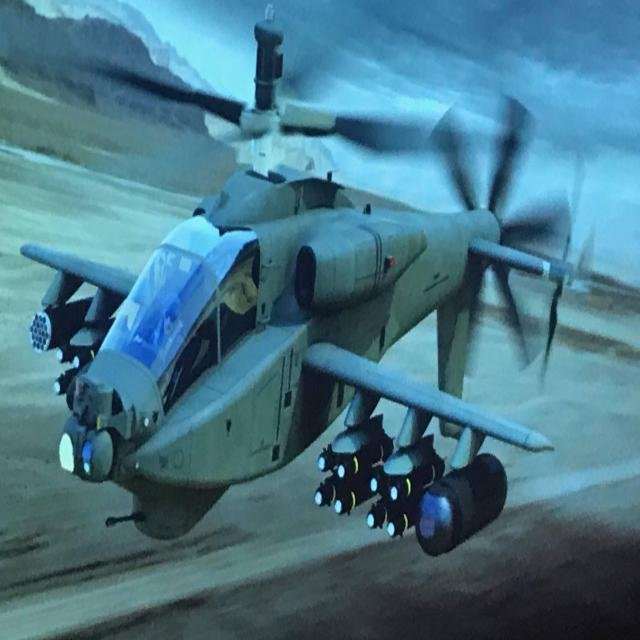MIL_HELO: (11, 17, 616, 565)
